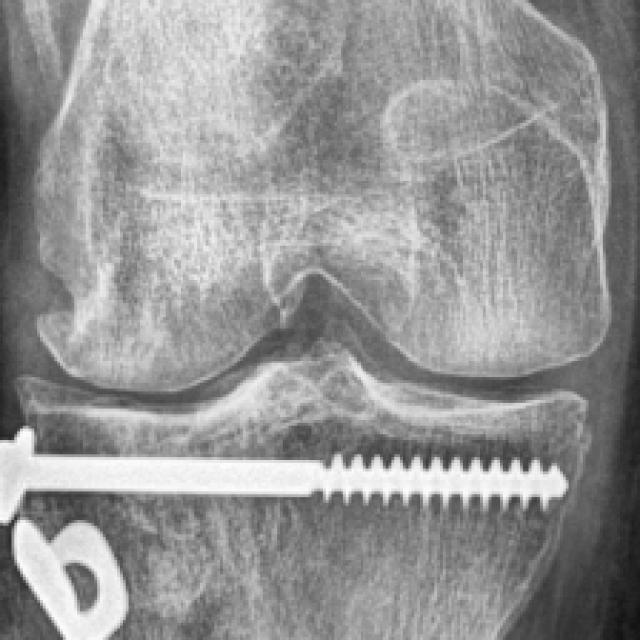femur: (33, 0, 612, 393)
tibia: (0, 346, 593, 640)
